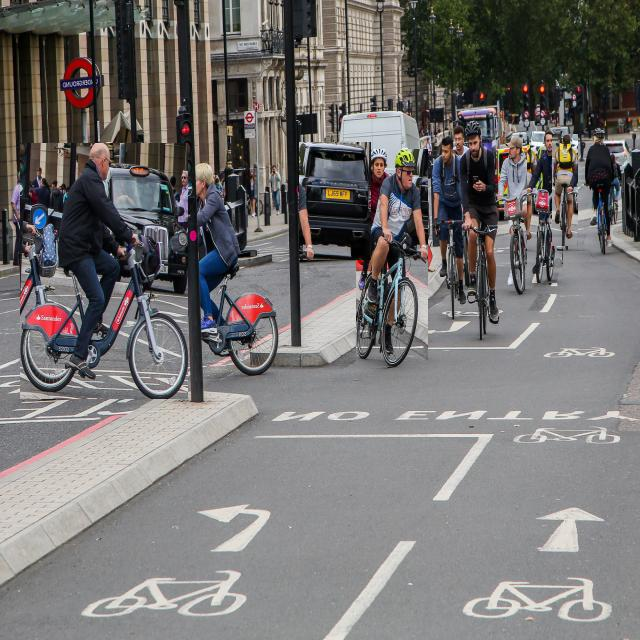bicycle: (20, 143, 188, 399), (195, 163, 278, 373), (356, 150, 428, 367), (460, 120, 499, 338), (432, 135, 465, 316), (500, 135, 536, 294), (527, 132, 562, 283), (585, 128, 614, 252), (552, 135, 578, 246)
car: (19, 163, 101, 293), (299, 142, 371, 260)
